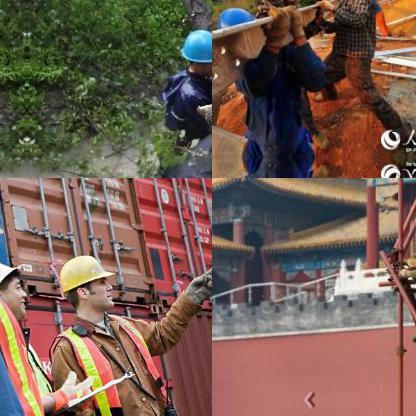Helmet: (58, 252, 116, 312), (213, 2, 261, 50), (175, 27, 211, 76), (0, 257, 26, 317)
